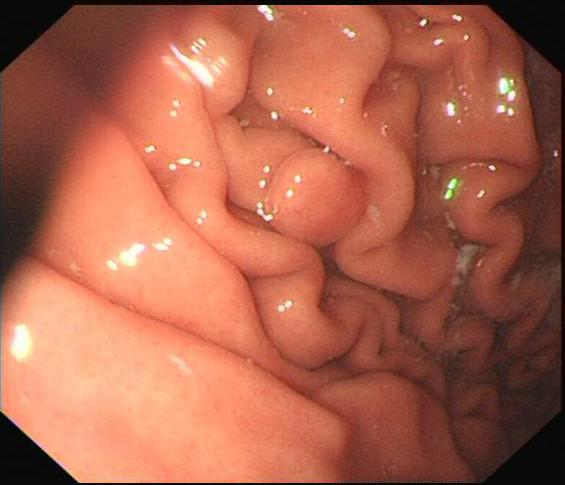Polyp: (256, 136, 390, 271)
